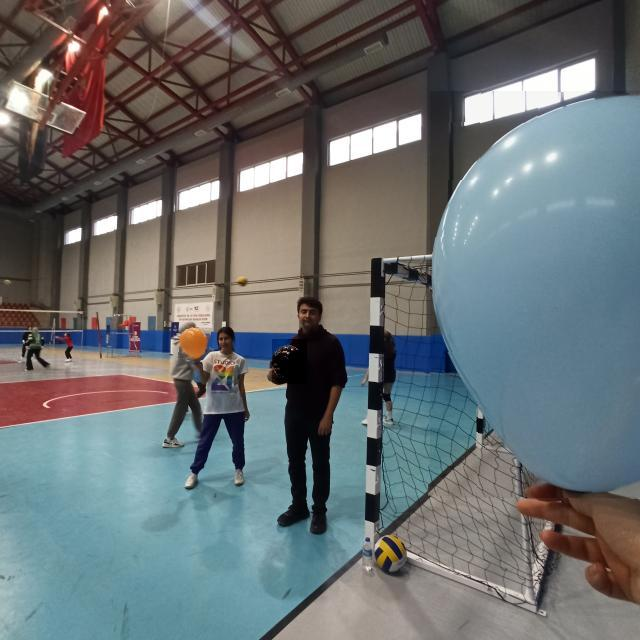balloon: (430, 91, 640, 498), (272, 339, 307, 384), (179, 326, 210, 362)
